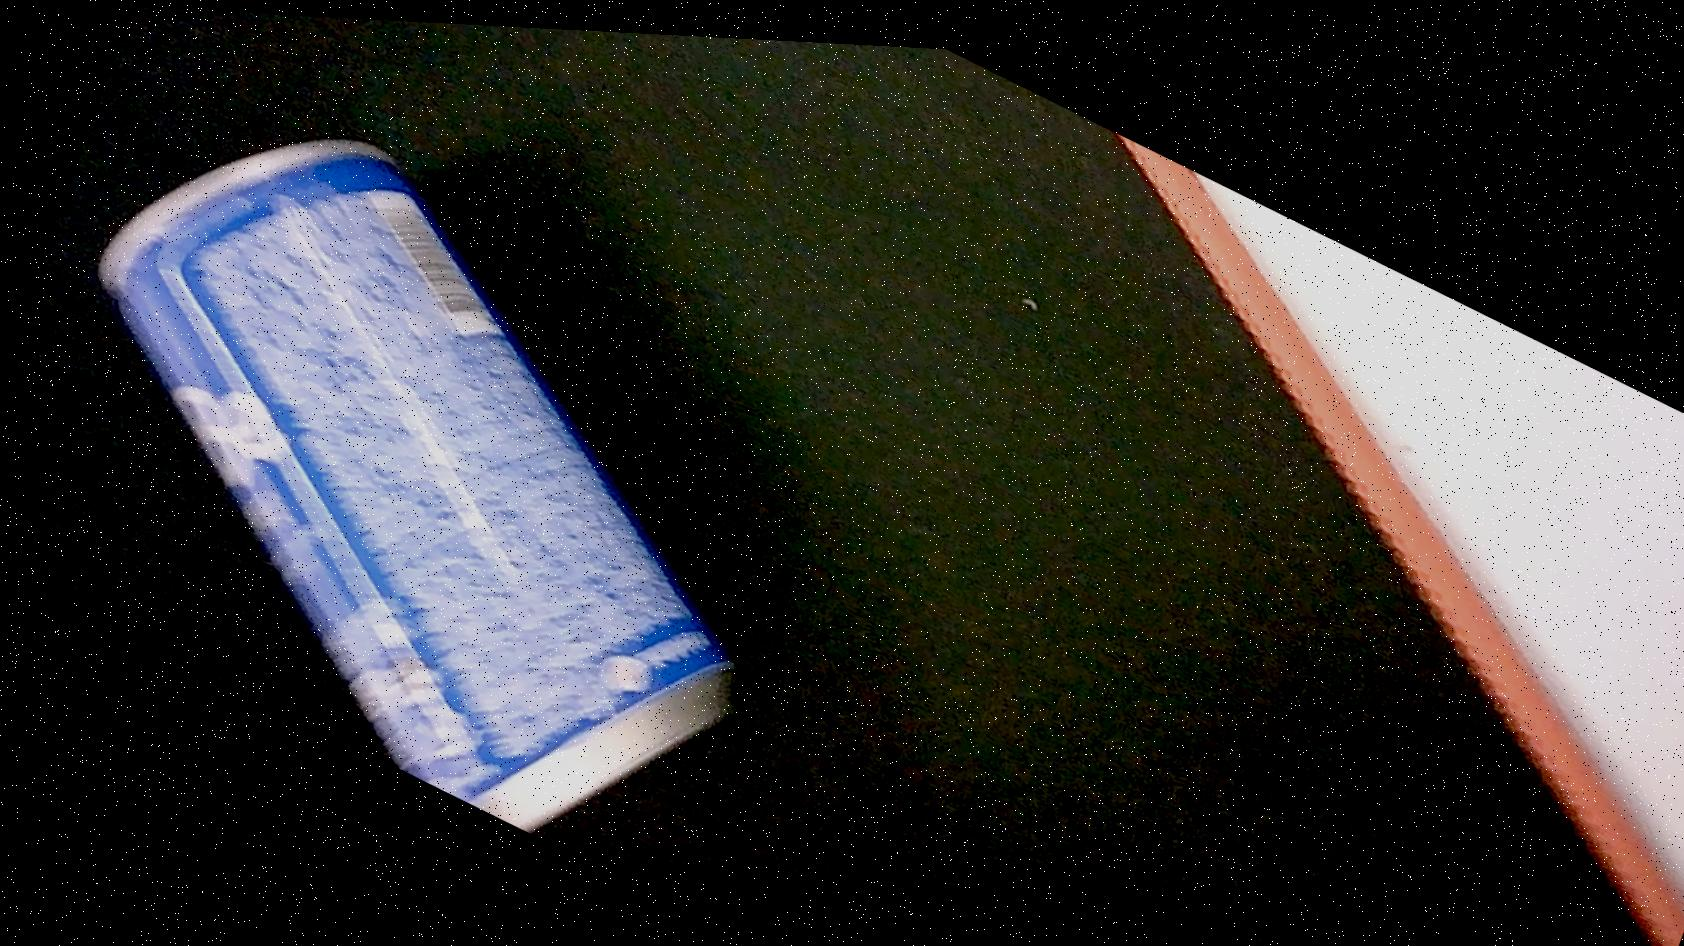letsbe: (2, 31, 886, 899)
